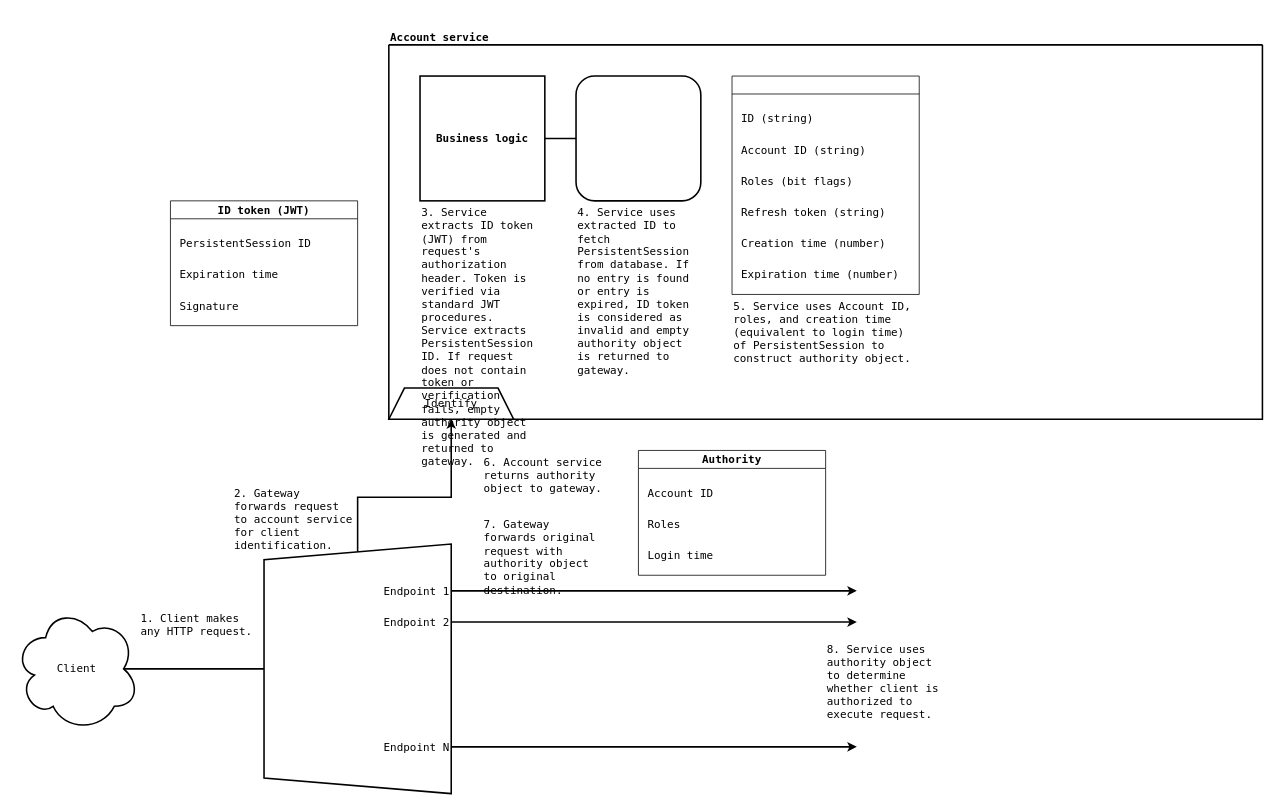
This 1276x807 diagram has some shape labels left out. Here are the shapes that lost their labels. From the top down, the box of each, then its label:
(575, 75, 701, 201): Database
(731, 75, 919, 294): PersistentSession
